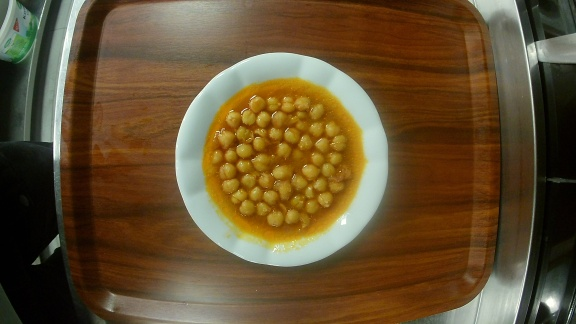sulunohut: (174, 52, 389, 268)
